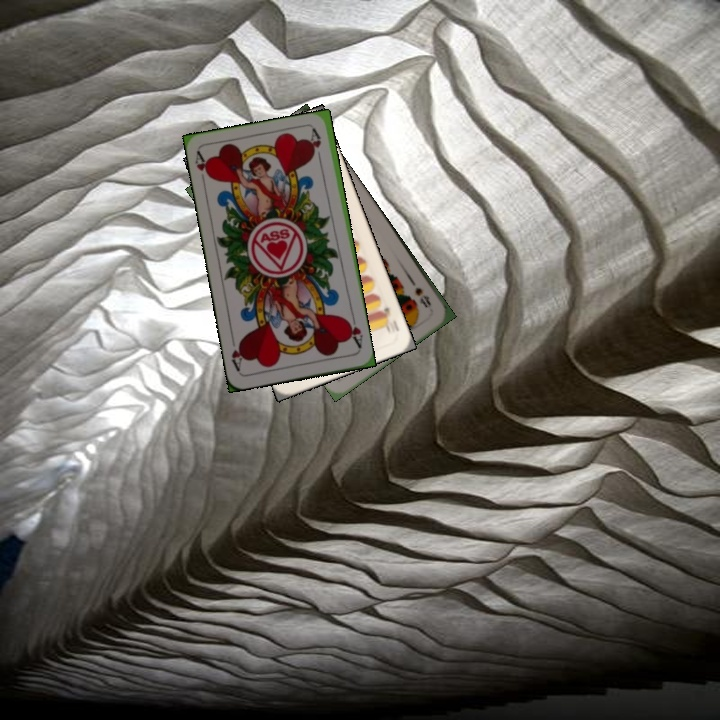E10: (376, 303, 402, 336)
HA: (191, 148, 214, 188), (342, 312, 365, 351)
S8: (411, 283, 434, 311)
